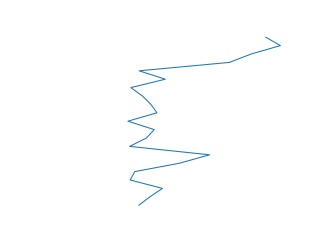crevasseRiverChannelBar: (121, 33, 286, 210)
